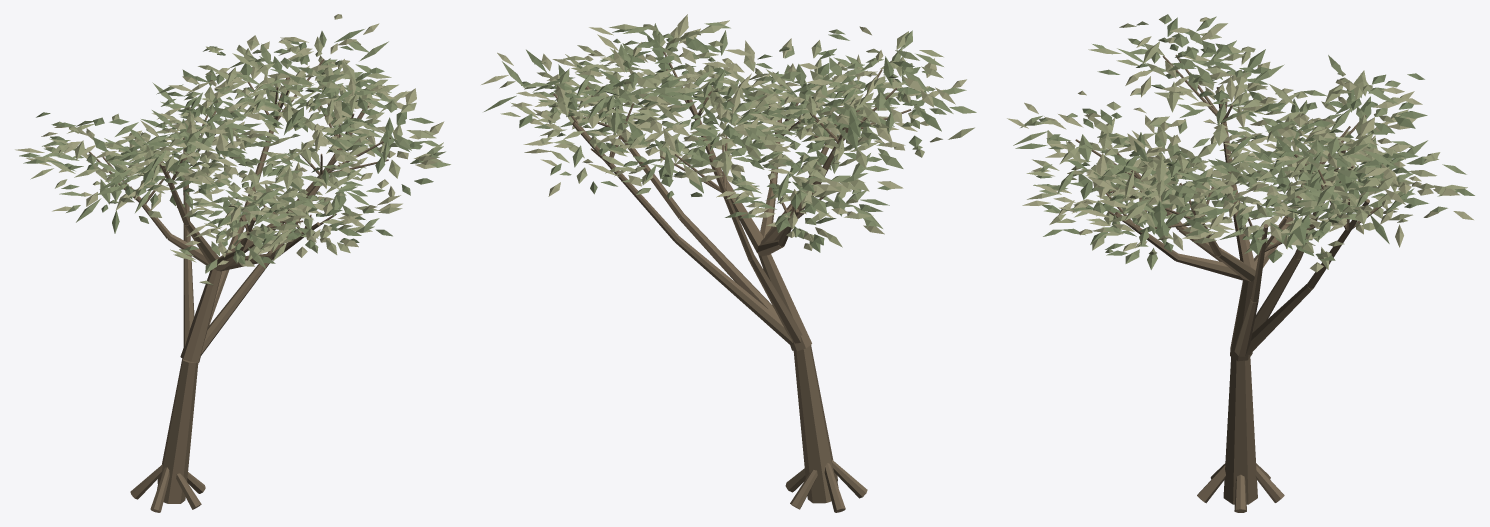
File: DesertWindswept.glb
The picture shows the model from 3 angles, left to right: view 1: azimuth 30°, elevation 25°; view 2: azimuth 150°, elevation 25°; view 3: azimuth 270°, elevation 25°; orthographic projection. The views are drawn at different scales.
Visible parts, largest first — view 1: DesertWindswept; view 2: DesertWindswept; view 3: DesertWindswept.
Part boxes in pixels (bbox=[...]): DesertWindswept: bbox=[15, 14, 450, 512]; DesertWindswept: bbox=[481, 14, 976, 512]; DesertWindswept: bbox=[1007, 14, 1474, 512].
Size of the model in its own units: 3.93 by 4.33 by 3.98.
